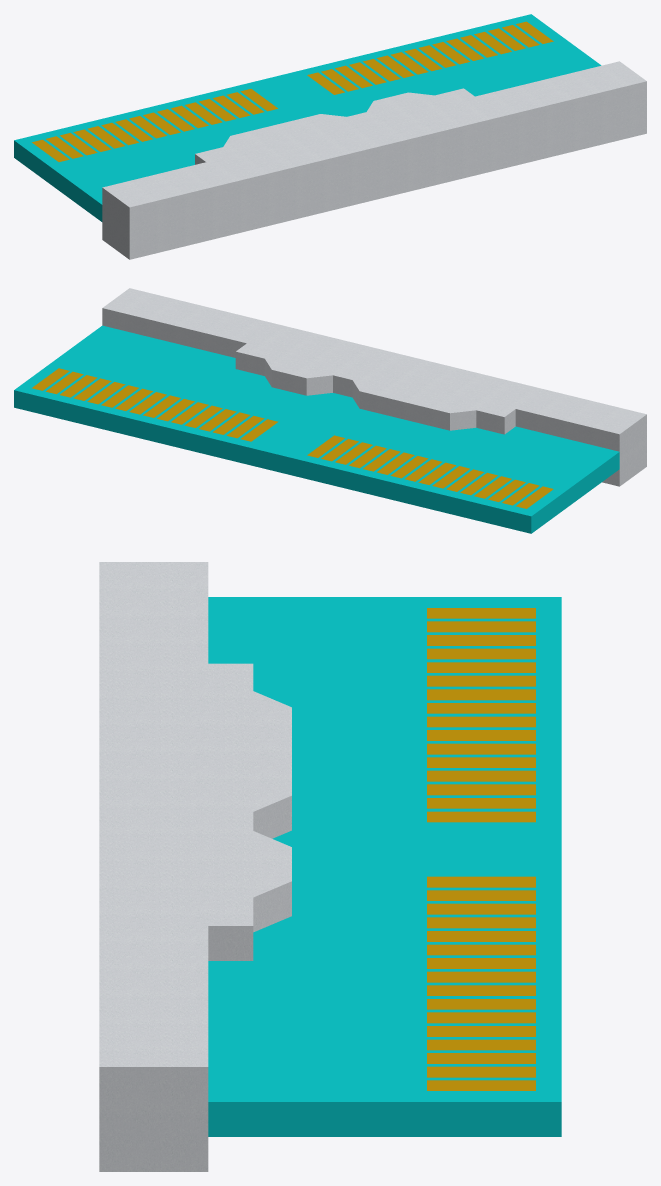
Rendered from Keycard.obj.
3 views of the same model, one above another, from view 1: azimuth 30°, elevation 25°; view 2: azimuth 150°, elevation 25°; view 3: azimuth 270°, elevation 25° (orthographic). The views are drawn at different scales.
Visible parts, largest first — view 1: Mesh1 Group1 Model; view 2: Mesh1 Group1 Model; view 3: Mesh1 Group1 Model.
Part boxes in pixels (x1,y1,x2,y2): Mesh1 Group1 Model: (14, 14, 646, 259); Mesh1 Group1 Model: (14, 288, 646, 533); Mesh1 Group1 Model: (99, 562, 561, 1171).
Size of the model in its own units: 0.186 by 0.018 by 0.072.
Materials: 3 (1 with a texture image).
